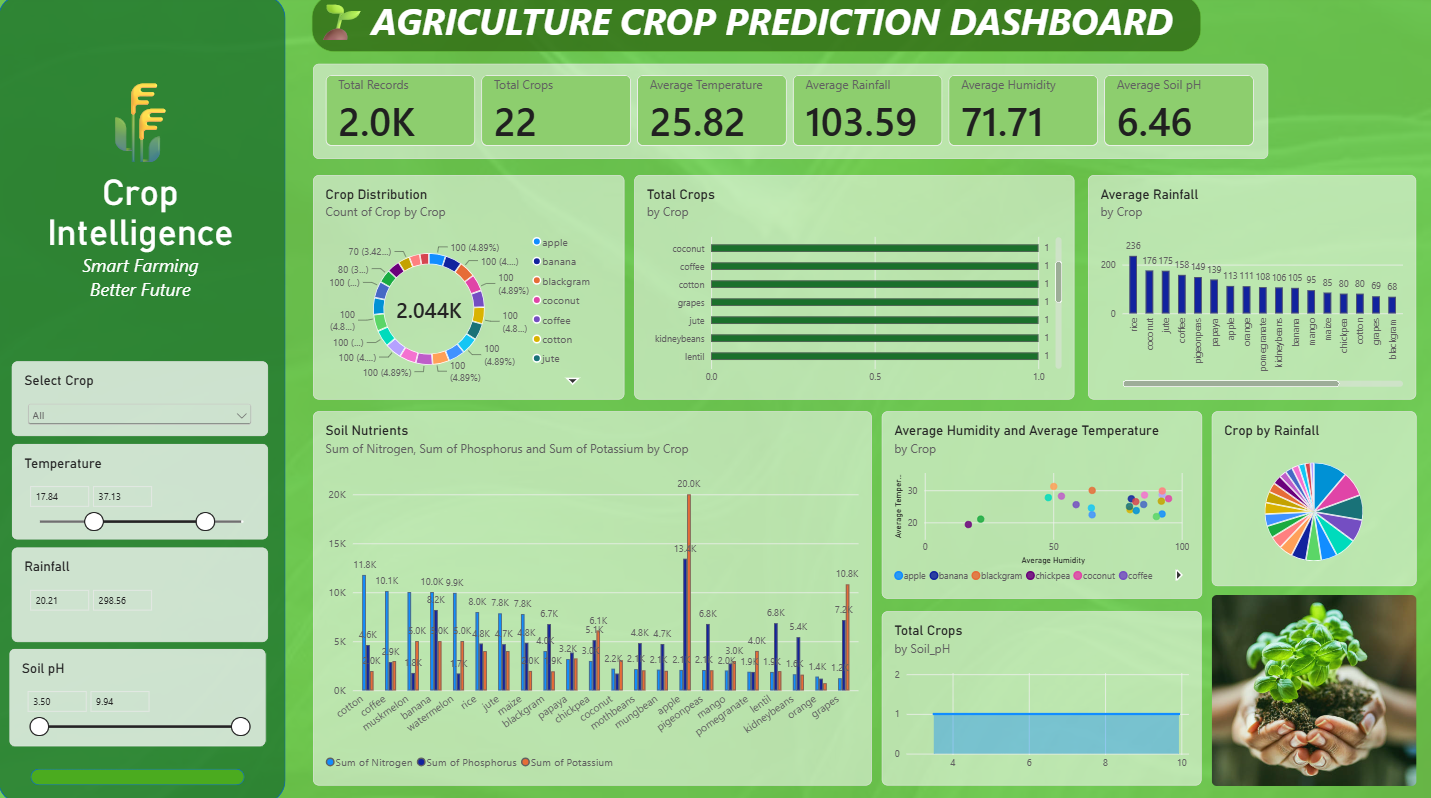

What the dashboard file says about the page in this screenshot:
{"tool":"powerbi","page":{"name":"Page 1","canvas":[1920,1080],"ordinal":0},"visuals":[{"type":"shape","box":[0,0,384,1080],"z":0},{"type":"textbox","box":[419.8,0,1187.7,76.2],"z":1000},{"type":"cardVisual","fields":{"Data":["Crop_Data.Total Records","Crop_Data.Total Crops","Crop_Data.Average Temperature","Crop_Data.Average Rainfall","Crop_Data.Average Humidity","Crop_Data.Average Soil pH"]},"box":[420,91.4,1275.7,127.1],"z":2000},{"type":"donutChart","title":"Crop Distribution","fields":{"Category":["Crop_Data.Crop"],"Y":["CountNonNull(Crop_Data.Crop)"]},"box":[420,240,416,300],"z":3000},{"type":"clusteredBarChart","fields":{"Category":["Crop_Data.Crop"],"Y":["Crop_Data.Total Crops"]},"box":[850,240,588,300],"z":4000},{"type":"clusteredColumnChart","title":"Soil Nutrients","fields":{"Category":["Crop_Data.Crop"],"Y":["Sum(Crop_Data.Nitrogen)","Sum(Crop_Data.Phosphorus)","Sum(Crop_Data.Potassium)"]},"box":[420,556,746,500],"z":5000},{"type":"clusteredColumnChart","fields":{"Category":["Crop_Data.Crop"],"Y":["Crop_Data.Average Rainfall"]},"box":[1456,240,438,300],"z":6000},{"type":"scatterChart","fields":{"Series":["Crop_Data.Crop"],"X":["Crop_Data.Average Humidity"],"Y":["Crop_Data.Average Temperature"]},"box":[1180,556,428,250],"z":7000},{"type":"stackedAreaChart","fields":{"Category":["Crop_Data.Soil_pH"],"Y":["Crop_Data.Total Crops"]},"box":[1180,823.8,427.5,232.5],"z":8000},{"type":"slicer","title":"Select Crop","fields":{"Values":["Crop_Data.Crop"]},"box":[18,490,342,100],"z":9000},{"type":"slicer","title":"Temperature","fields":{"Values":["Crop_Data.Temperature"]},"box":[17.8,600,342,128],"z":10000},{"type":"slicer","title":"Rainfall","fields":{"Values":["Crop_Data.Rainfall"]},"box":[17.8,737.8,342.2,126.7],"z":11000},{"type":"slicer","title":"Soil pH","fields":{"Values":["Crop_Data.Soil_pH"]},"box":[15.6,873.3,342.2,130],"z":12000},{"type":"shape","box":[43.8,1033.8,286,22],"z":13000},{"type":"pieChart","title":"Crop by Rainfall","fields":{"Category":["Crop_Data.Crop"],"Series":["Crop_Data.Crop"],"Y":["Sum(Crop_Data.Rainfall)"]},"box":[1621.5,555.6,273.3,233.4],"z":14000},{"type":"image","box":[1621.5,801.7,273.3,255.2],"z":14002},{"type":"textbox","box":[100,100,300,300],"z":14003},{"type":"textbox","box":[30.8,94.1,320.3,363.7],"z":14004}]}

Visuals, with their boxes in screenshot pixels (x1, y1, x2, y2), scaled from the page's 1920x1080 canvas onto the 1431x798 screenshot:
shape: 0, 0, 286, 797
textbox: 313, 0, 1198, 56
cardVisual - Crop_Data.Total Records x Crop_Data.Total Crops: 313, 68, 1264, 161
"Crop Distribution" donutChart: 313, 177, 623, 399
clusteredBarChart - Crop_Data.Crop x Crop_Data.Total Crops: 634, 177, 1072, 399
"Soil Nutrients" clusteredColumnChart: 313, 411, 869, 780
clusteredColumnChart - Crop_Data.Crop x Crop_Data.Average Rainfall: 1085, 177, 1412, 399
scatterChart - Crop_Data.Crop x Crop_Data.Average Humidity: 879, 411, 1198, 596
stackedAreaChart - Crop_Data.Soil_pH x Crop_Data.Total Crops: 879, 609, 1198, 780
"Select Crop" slicer: 13, 362, 268, 436
"Temperature" slicer: 13, 443, 268, 538
"Rainfall" slicer: 13, 545, 268, 639
"Soil pH" slicer: 12, 645, 267, 741
shape: 33, 764, 246, 780
"Crop by Rainfall" pieChart: 1209, 411, 1412, 583
image: 1209, 592, 1412, 781
textbox: 75, 74, 298, 296
textbox: 23, 70, 262, 338
